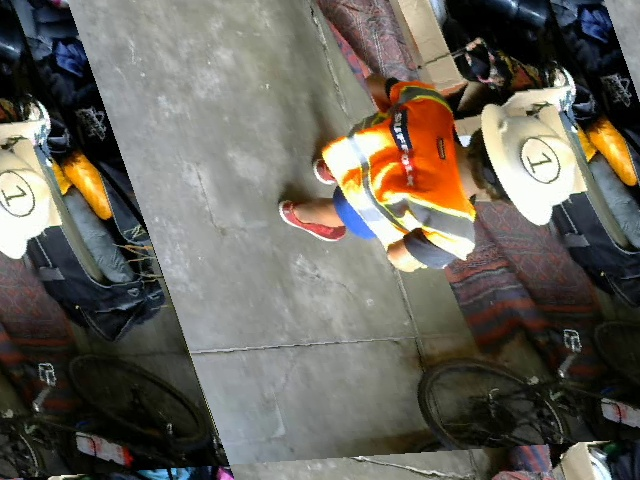one: (513, 135, 567, 184)
